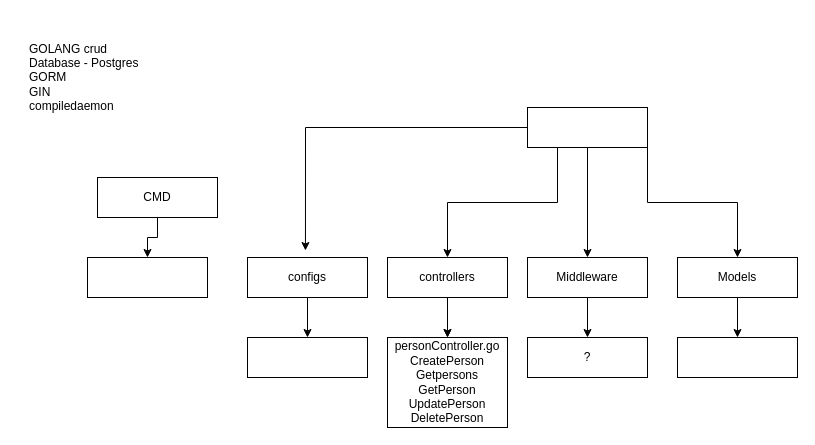
Some shapes in this 815 by 445 pixel diagram are drawn without their labels. The centre of each missing label's shape, as x and y in pixels:
"connectToDb.go loadEnvVars.go" belongs at (x=307, y=357).
"main.go" belongs at (x=147, y=277).
"personModel.go" belongs at (x=737, y=357).
"PKG" belongs at (x=587, y=127).
